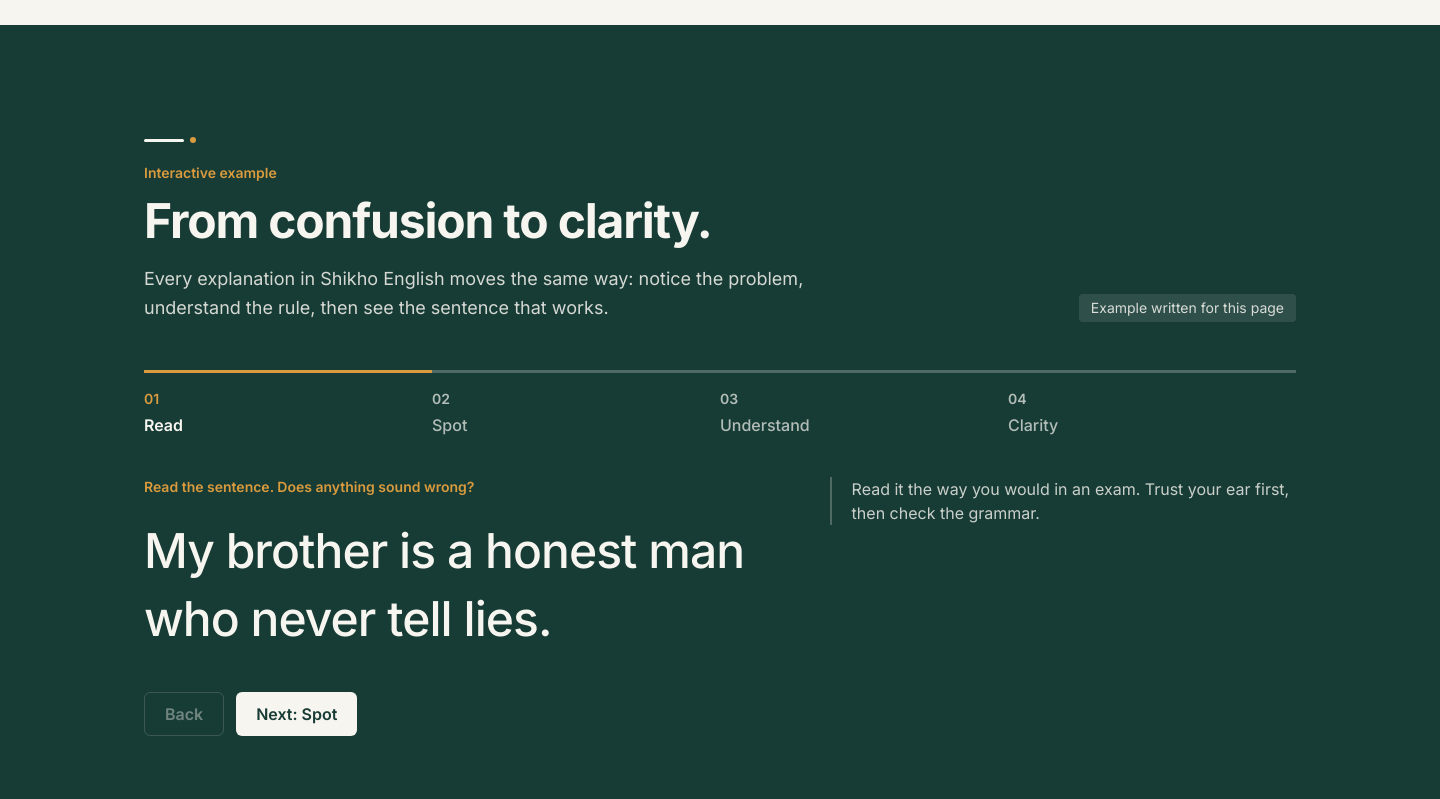
Test: From confusion to clarity › any step can be opened directly
(page scrolled)
Click the button "03 Understand".
click(765, 425)  # box [720,374,1008,438]
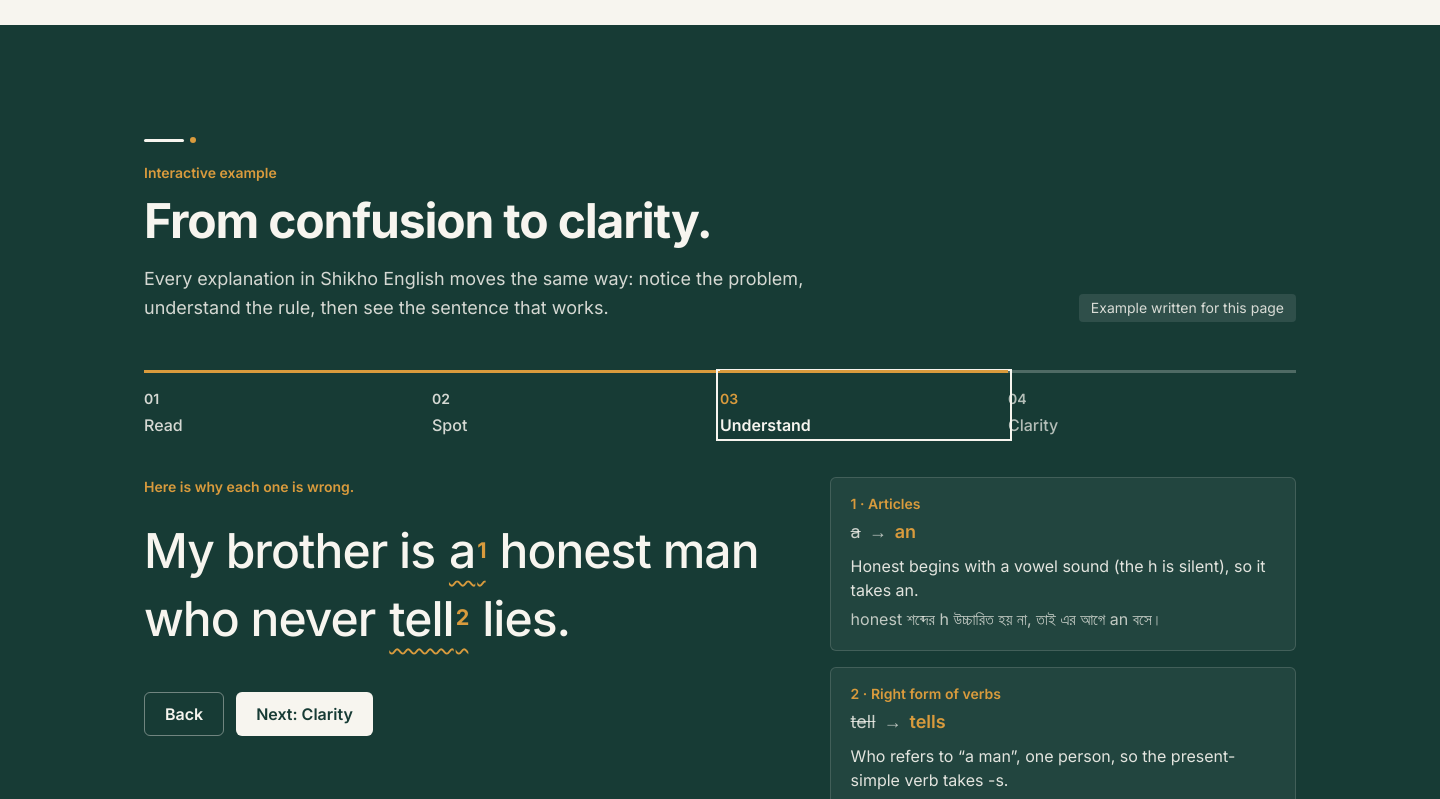
expect the text "Here is why each one is wrong." is shown: met, box [144,478,354,496]
